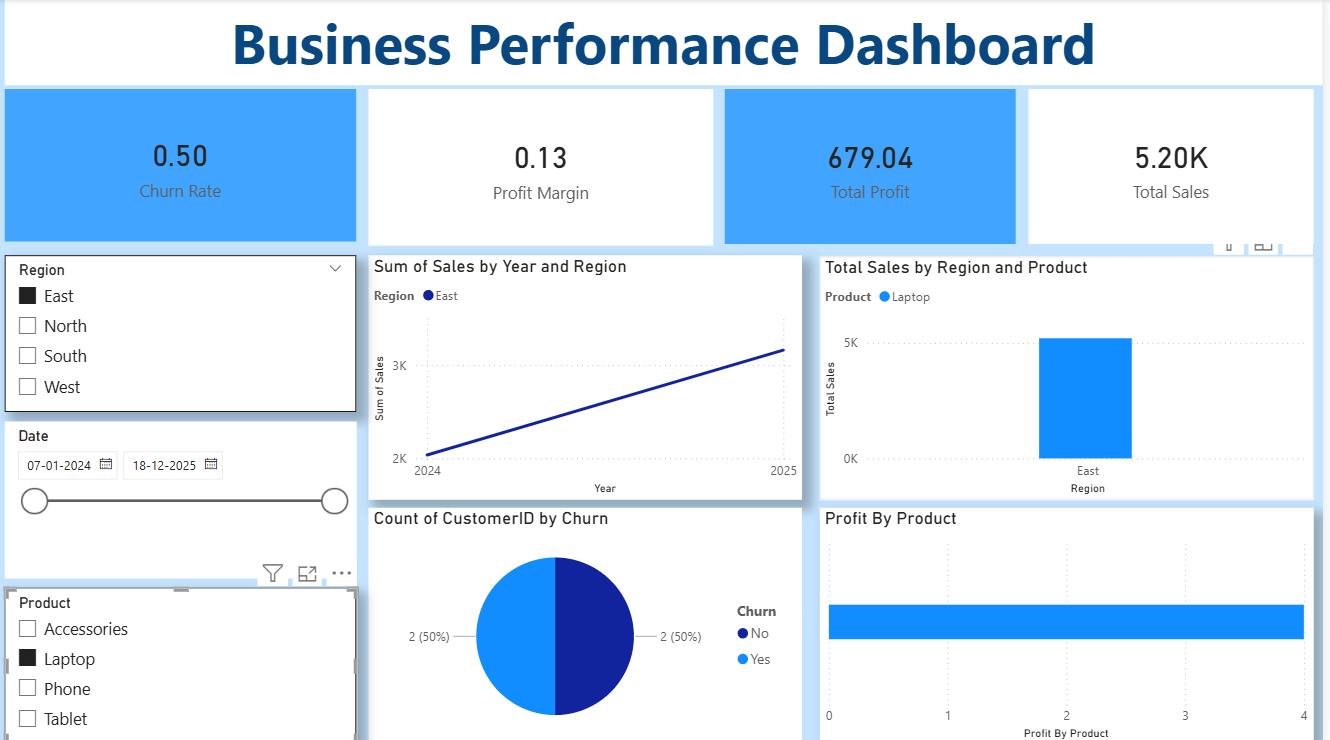

This screenshot's page, from the dashboard's own definition file:
{"tool":"powerbi","page":{"name":"Page 1","canvas":[1280,720],"ordinal":0},"visuals":[{"type":"textbox","box":[8.6,0,1271.7,83.2],"z":0},{"type":"lineChart","fields":{"Category":["Business.Date.Variation.Date Hierarchy.Year","Business.Date.Variation.Date Hierarchy.Quarter","Business.Date.Variation.Date Hierarchy.Month","Business.Date.Variation.Date Hierarchy.Day"],"Y":["Sum(Business.Sales)"],"Series":["Business.Region"]},"box":[359.6,247.1,418.6,236],"z":1000},{"type":"barChart","fields":{"Y":["CountNonNull(Business.Product)"]},"box":[794.8,490.9,476.4,229.3],"z":2000},{"type":"pieChart","fields":{"Category":["Business.Churn"],"Y":["CountNonNull(Business.CustomerID)"]},"box":[359.6,490.9,418.6,229.3],"z":3000},{"type":"clusteredColumnChart","fields":{"Category":["Business.Region"],"Y":["Business.Total Sales"],"Series":["Business.Product"]},"box":[794.8,248.2,476.4,234.9],"z":4000},{"type":"card","fields":{"Values":["Business.Total Profit"]},"box":[703.4,86.9,281.1,149.6],"z":5000},{"type":"card","fields":{"Values":["Business.Total Sales"]},"box":[996.5,86.9,275.1,149.6],"z":6000},{"type":"card","fields":{"Values":["Business.Churn Rate"]},"box":[8.4,86.9,339,147.2],"z":7000},{"type":"card","fields":{"Values":["Business.Profit Margin"]},"box":[359.5,86.9,333,150.8],"z":8000},{"type":"slicer","fields":{"Values":["Business.Region"]},"box":[8.4,247.3,339,150.8],"z":9000},{"type":"slicer","fields":{"Values":["Business.Date"]},"box":[8.9,407.4,339.5,151.4],"z":10000},{"type":"slicer","fields":{"Values":["Business.Product"]},"box":[8.9,568.8,339.5,151.4],"z":11000}]}

Visuals, with their boxes in screenshot pixels (x1, y1, x2, y2), scaled from the page's 1280x720 canvas onto the 1330x740 screenshot:
textbox: x1=9 y1=0 x2=1329 y2=86
lineChart - Business.Date.Variation.Date Hierarchy.Year x Business.Date.Variation.Date Hierarchy.Quarter: x1=374 y1=254 x2=809 y2=497
barChart - CountNonNull(Business.Product): x1=826 y1=505 x2=1321 y2=739
pieChart - Business.Churn x CountNonNull(Business.CustomerID): x1=374 y1=505 x2=809 y2=739
clusteredColumnChart - Business.Region x Business.Total Sales: x1=826 y1=255 x2=1321 y2=497
card - Business.Total Profit: x1=731 y1=89 x2=1023 y2=243
card - Business.Total Sales: x1=1035 y1=89 x2=1321 y2=243
card - Business.Churn Rate: x1=9 y1=89 x2=361 y2=241
card - Business.Profit Margin: x1=374 y1=89 x2=720 y2=244
slicer - Business.Region: x1=9 y1=254 x2=361 y2=409
slicer - Business.Date: x1=9 y1=419 x2=362 y2=574
slicer - Business.Product: x1=9 y1=585 x2=362 y2=739
